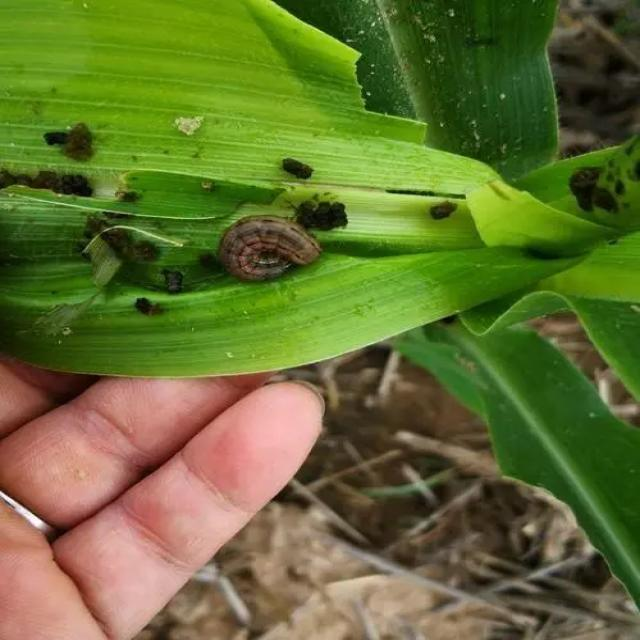pest: (222, 217, 314, 280)
